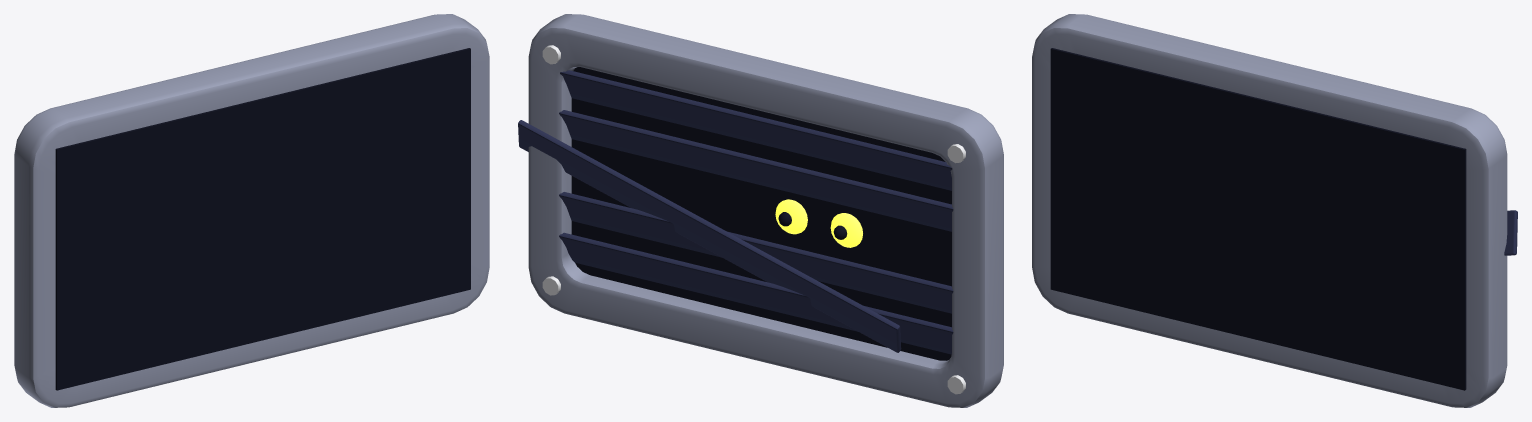
The model's file is vent_grate.glb.
The picture shows the model from 3 angles, left to right: view 1: azimuth 30°, elevation 25°; view 2: azimuth 150°, elevation 25°; view 3: azimuth 330°, elevation 25°; orthographic projection.
Visible parts, largest first — view 1: Body; view 2: Body; view 3: Body.
Part boxes in pixels (x1=…): Body: x1=14, y1=14, x2=489, y2=407; Body: x1=518, y1=14, x2=1003, y2=407; Body: x1=1032, y1=14, x2=1517, y2=407.
Bounding box in the file's own units: 1.02 × 0.6 × 0.1087.
